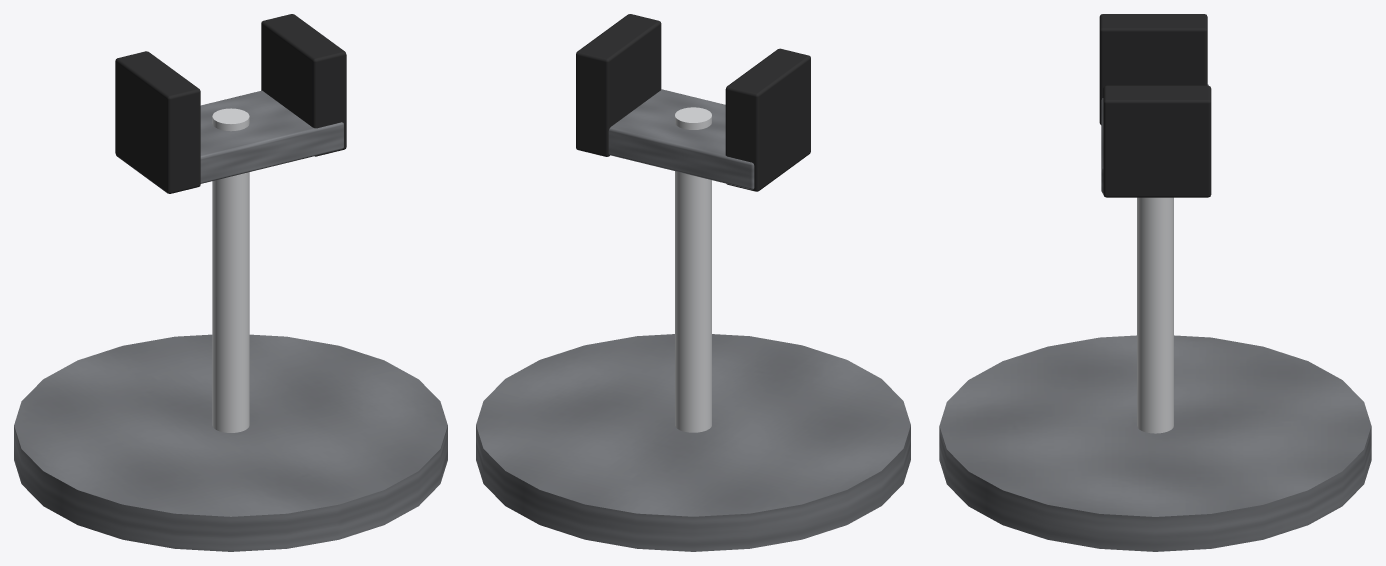
Rendered from fps-weapon-set-and-firing-range-gun-rest-4e912fc5__19516.glb.
3 views of the same model, side by side, from view 1: azimuth 30°, elevation 25°; view 2: azimuth 150°, elevation 25°; view 3: azimuth 270°, elevation 25° (orthographic).
Parts seen in each view (by area): view 1: gun-rest; view 2: gun-rest; view 3: gun-rest.
Boxes of the visible parts, x1,y1,x2,y2 form: gun-rest: [14, 14, 447, 551]; gun-rest: [476, 14, 910, 551]; gun-rest: [939, 14, 1371, 551].
Bounding box in the file's own units: 0.28 × 0.2888 × 0.28.
Materials: 3 (1 with a texture image).
